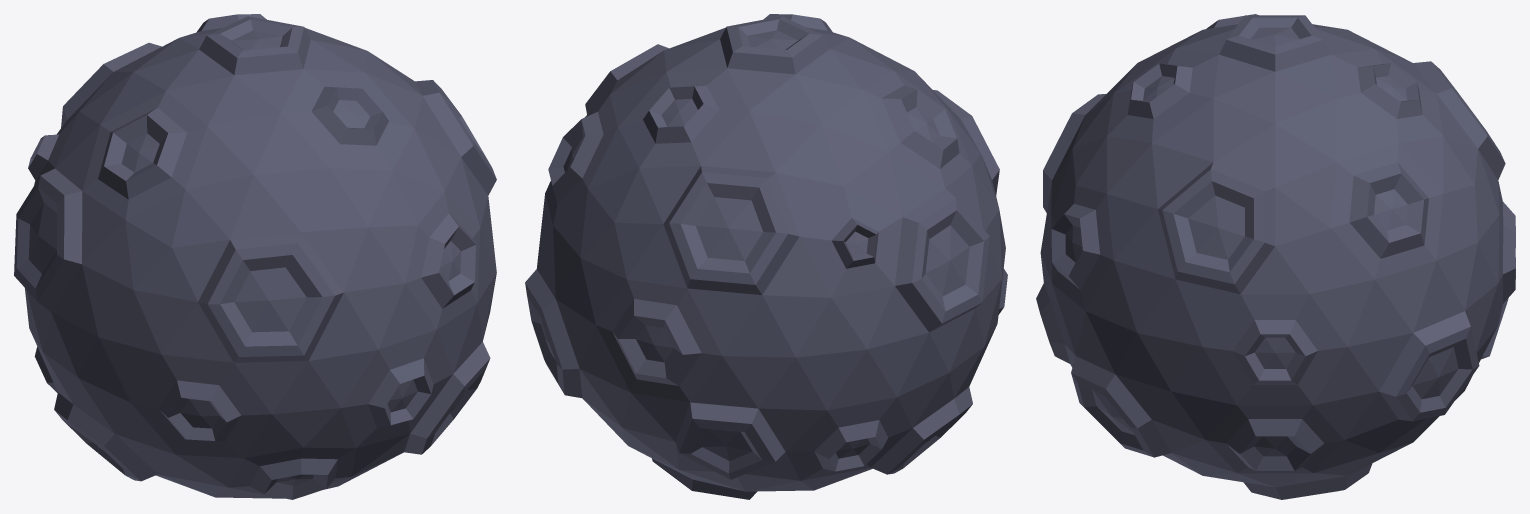
Rendered from proyecto_avanzada.fbx.
3 views of the same model, side by side, from view 1: azimuth 30°, elevation 25°; view 2: azimuth 150°, elevation 25°; view 3: azimuth 270°, elevation 25° (orthographic). The views are drawn at different scales.
Visible parts, largest first — view 1: Icosphere; view 2: Icosphere; view 3: Icosphere.
Boxes of the visible parts, x1=… form: Icosphere: x1=14, y1=14, x2=496, y2=499; Icosphere: x1=525, y1=14, x2=1007, y2=499; Icosphere: x1=1036, y1=14, x2=1515, y2=499.
Bounding box in the file's own units: 208 × 210 × 205.
